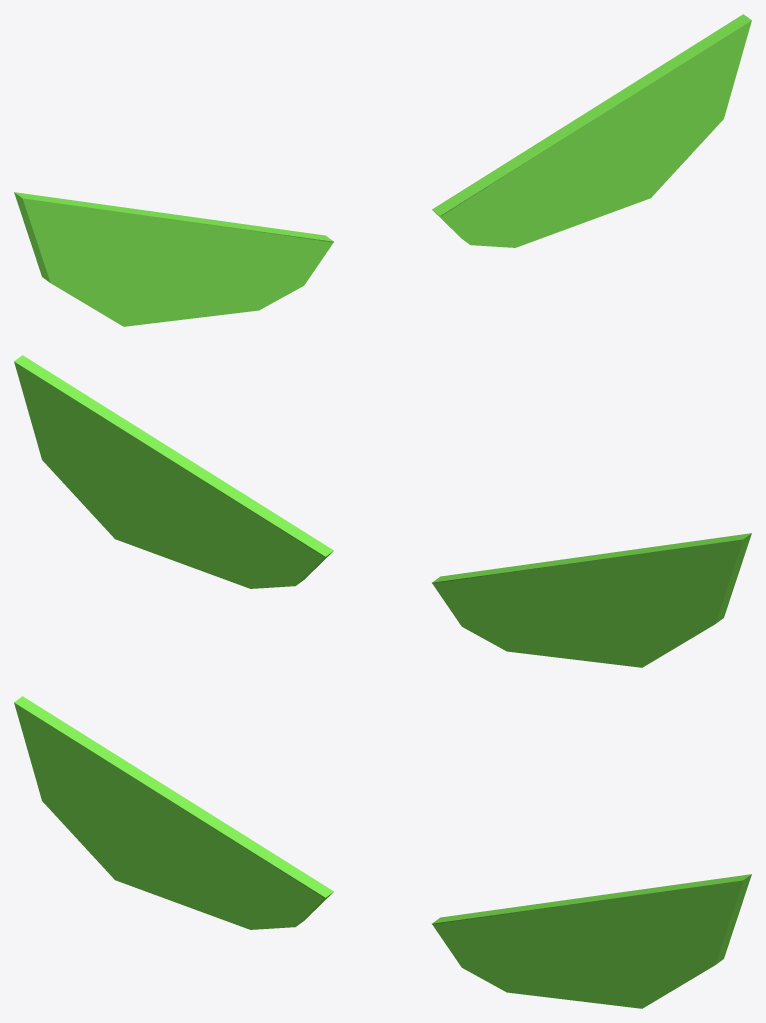
The model's file is eyes_green.FBX.
3 views of the same model, one above another, from view 1: azimuth 30°, elevation 25°; view 2: azimuth 150°, elevation 25°; view 3: azimuth 330°, elevation 25° (orthographic).
Parts seen in each view (by area): view 1: eyes_green; view 2: eyes_green; view 3: eyes_green.
Boxes of the visible parts, x1,y1,x2,y2 form: eyes_green: [14, 14, 751, 326]; eyes_green: [14, 355, 751, 667]; eyes_green: [14, 696, 751, 1008].
Bounding box in the file's own units: 38.7 × 8.61 × 0.7914.
Materials: 1 (1 with a texture image).
